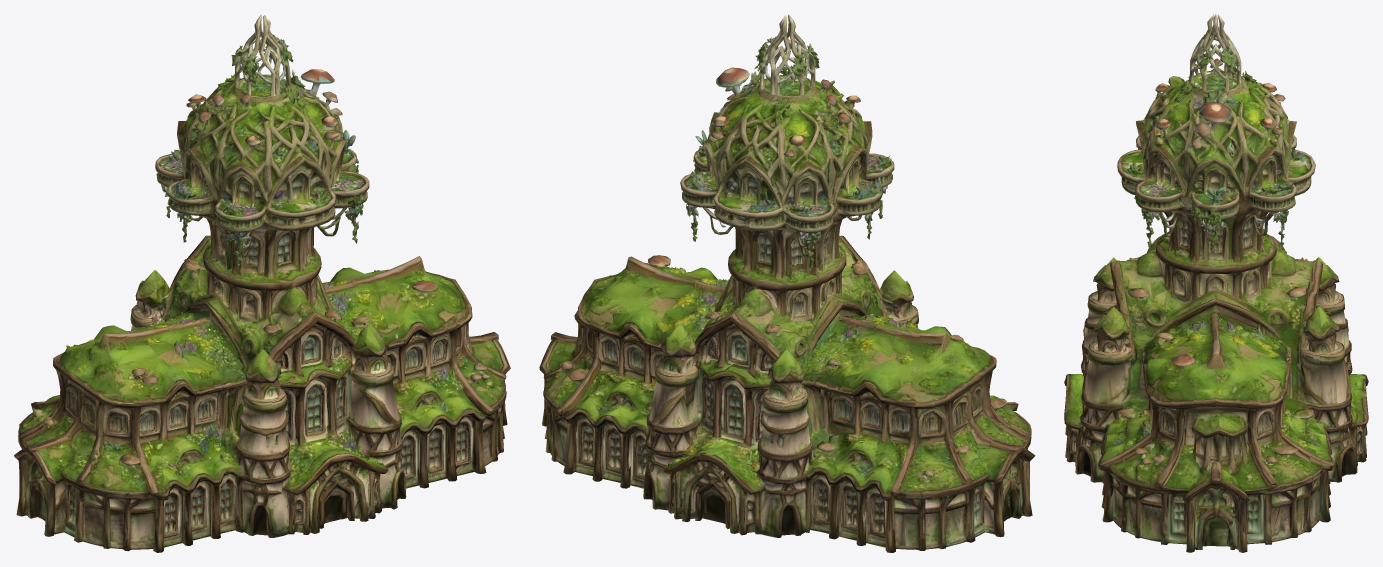
The model's file is Gardenspire_Citadel.glb.
3 renders of one model, left to right at view 1: azimuth 30°, elevation 25°; view 2: azimuth 150°, elevation 25°; view 3: azimuth 270°, elevation 25°, orthographic. The views are drawn at different scales.
Parts seen in each view (by area): view 1: Gardenspire_Citadel; view 2: Gardenspire_Citadel; view 3: Gardenspire_Citadel.
Boxes of the visible parts, <box> form: Gardenspire_Citadel: <box>14,14,510,552</box>; Gardenspire_Citadel: <box>539,14,1035,552</box>; Gardenspire_Citadel: <box>1064,14,1368,552</box>.
Bounding box in the file's own units: 1.9 × 1.76 × 1.13.
1 material, 1 textured.
